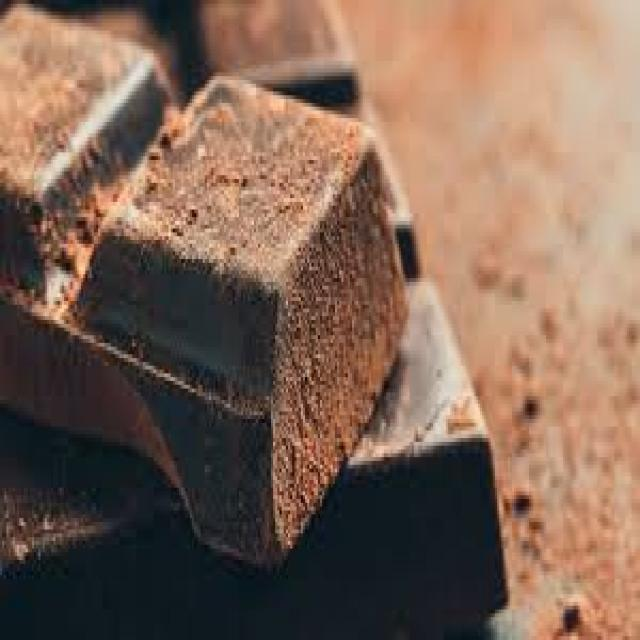Chocolate: (0, 0, 512, 640)
